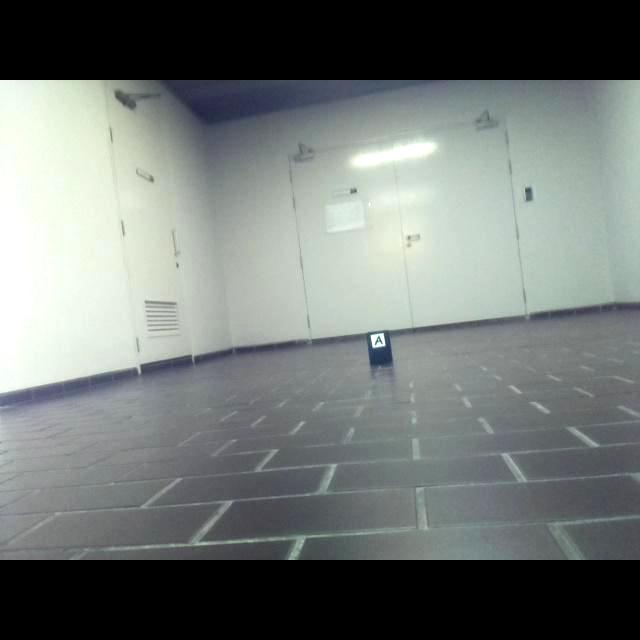A: (375, 335, 384, 344)
